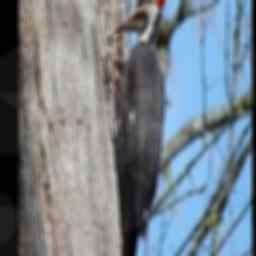Woodpecker: (110, 0, 172, 239)
